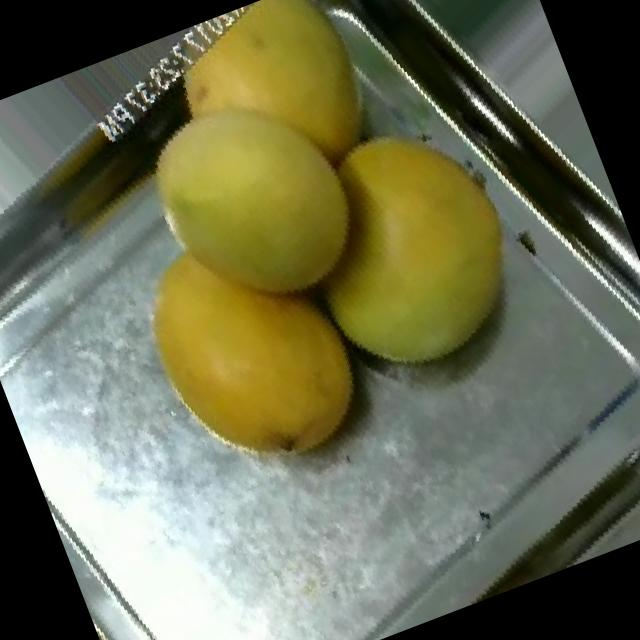fruit: (51, 0, 444, 400), (225, 52, 604, 449), (60, 162, 422, 540)
